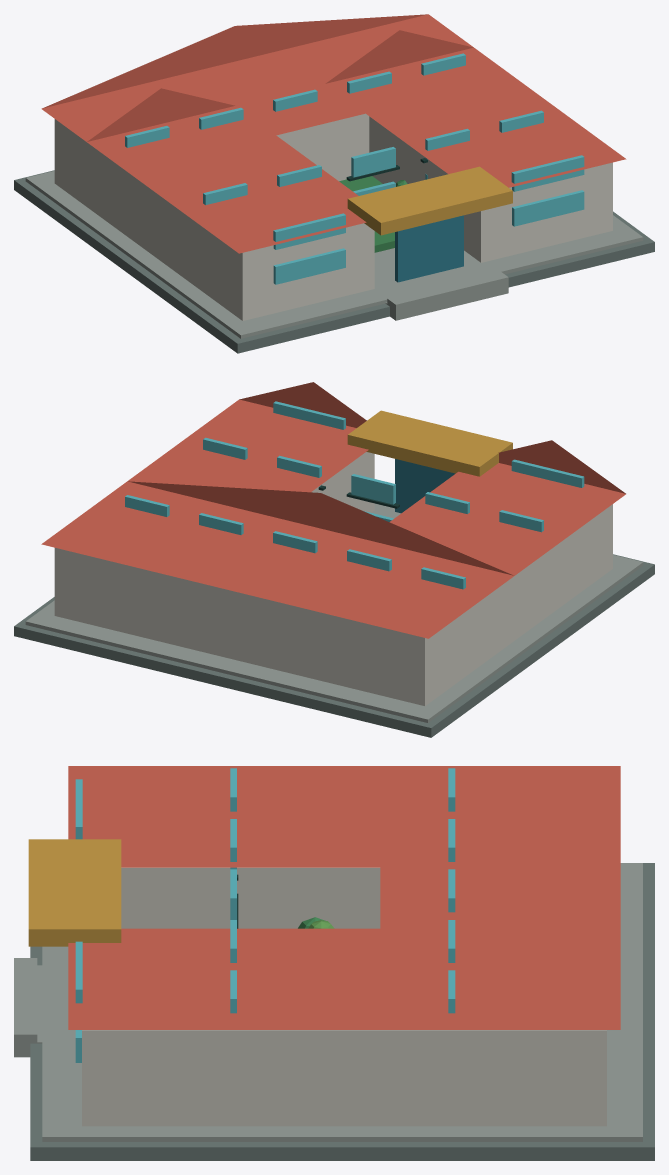
The model's file is school_lv1.glb.
The picture shows the model from 3 angles, top to bottom: view 1: azimuth 30°, elevation 25°; view 2: azimuth 150°, elevation 25°; view 3: azimuth 270°, elevation 25°; orthographic projection. The views are drawn at different scales.
Visible parts, largest first — view 1: rough, glossy; view 2: rough, glossy; view 3: rough, glossy.
Part boxes in pixels (bbox=[...]): rough: bbox=[14, 14, 654, 353]; glossy: bbox=[125, 53, 584, 284]; rough: bbox=[14, 382, 654, 737]; glossy: bbox=[125, 401, 584, 589]; rough: bbox=[14, 766, 654, 1160]; glossy: bbox=[75, 768, 455, 1062].
Size of the model in its own units: 9.8 by 2.74 by 9.34.
